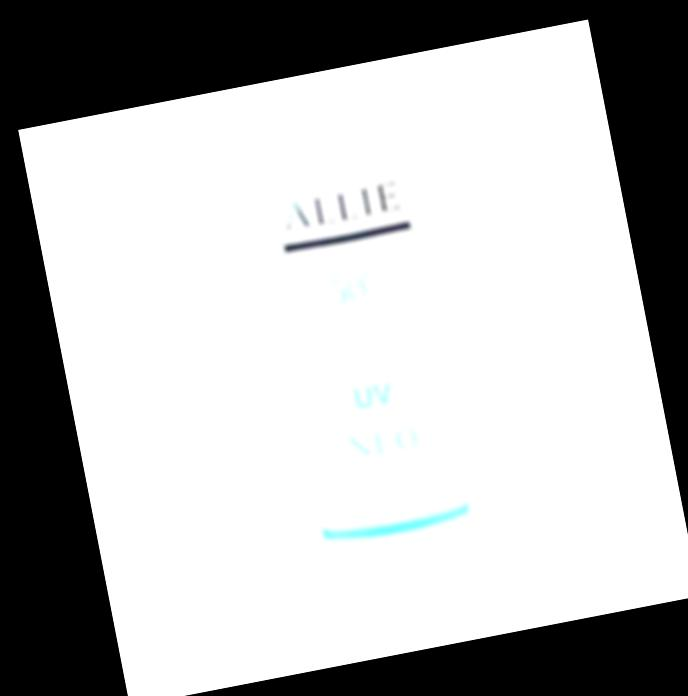cosmetic: (213, 85, 517, 633)
